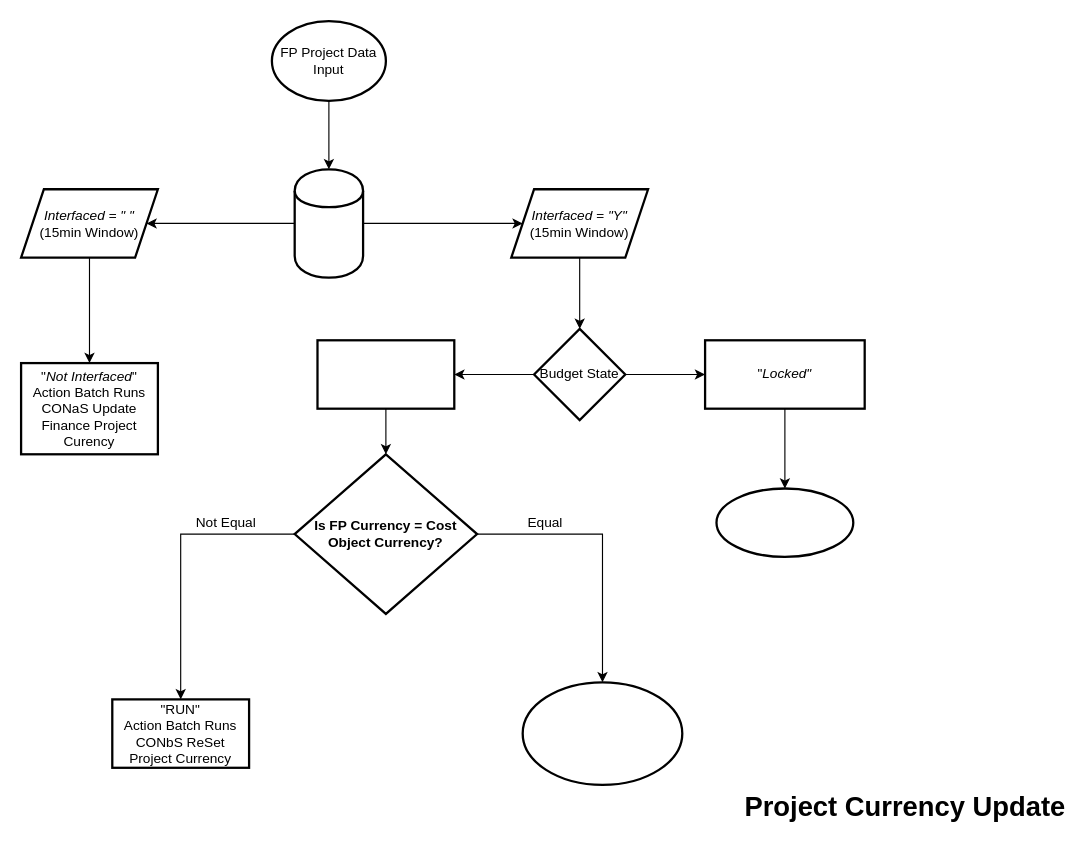
Some shapes in this 1089 by 849 pixel diagram are drawn without their labels. Each missing label, with the centre of its shape:
" Locked " Budget Panel: point 784,522
" SKIP " (Interfaced & Currencies matches with Oracle): point 602,733
" Unlocked ": point 385,374
FP Interfaced with Oracle: point 328,223
